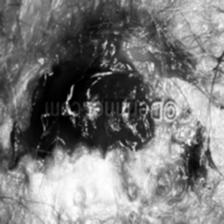Potentially Malignant Skin Tumors: (4, 57, 160, 149)
